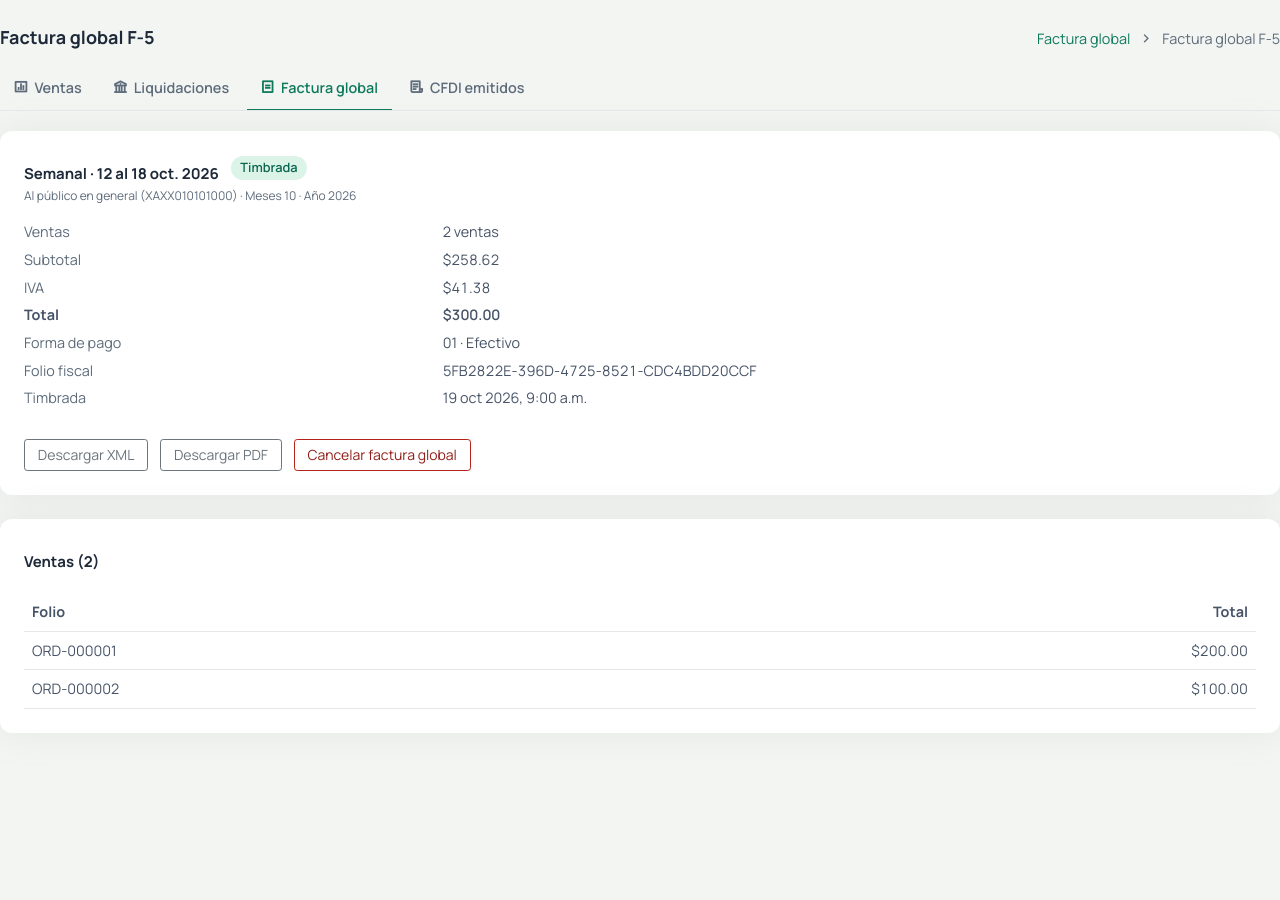
Test: GlobalInvoicePage › cancels with 04 by default, the motive of a customer asking for the invoice of a sale it holds
The width and height of the screenshot is (1280, 900).
Click the button "Cancelar factura global": (382, 455) top-left (294, 439), bottom-right (471, 471)
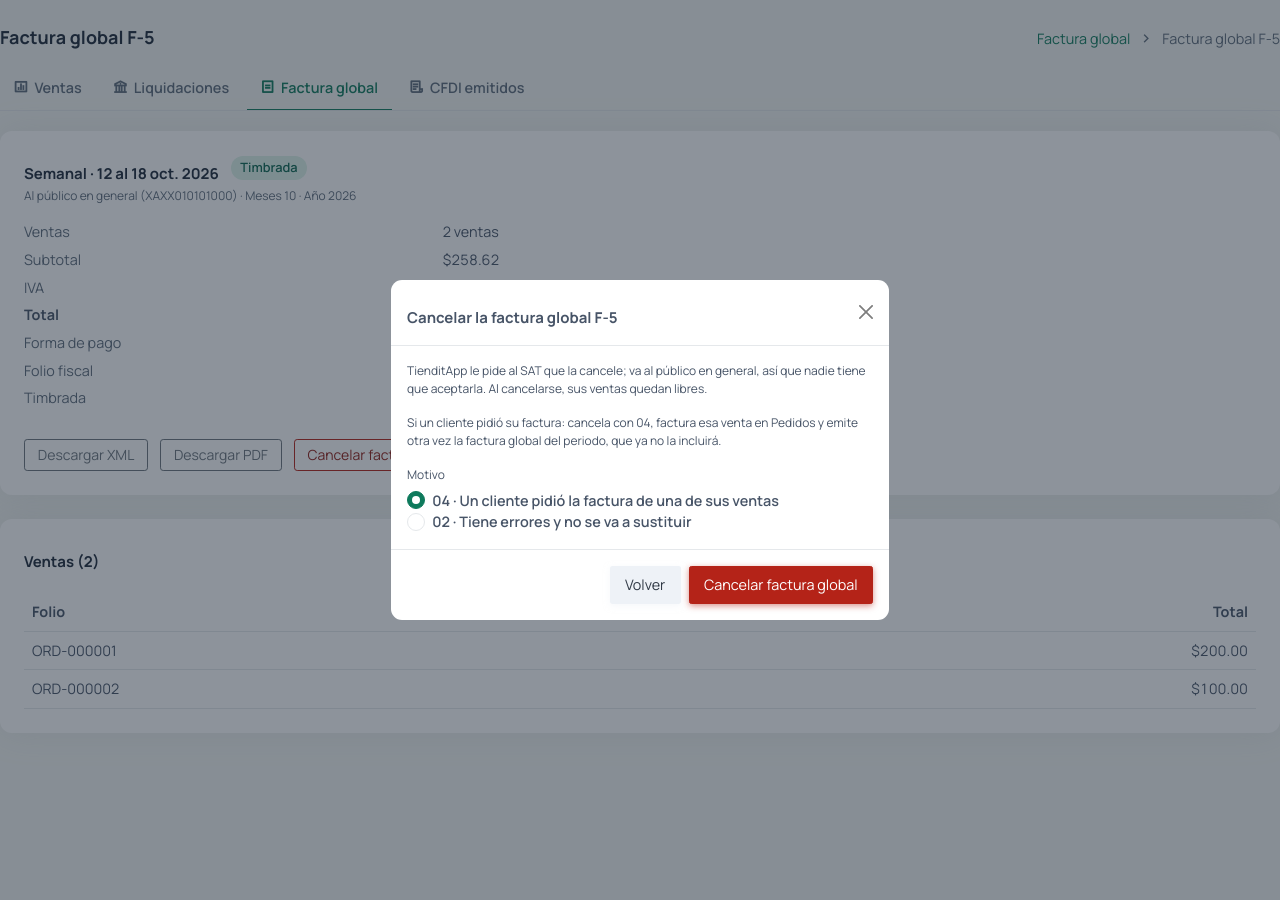
Result: the radio button labelled "04 · Un cliente pidió la factura de una de sus ventas" is checked at top-left (407, 491), bottom-right (425, 509)
Click the button "Cancelar factura global": (781, 585) top-left (689, 566), bottom-right (873, 604)
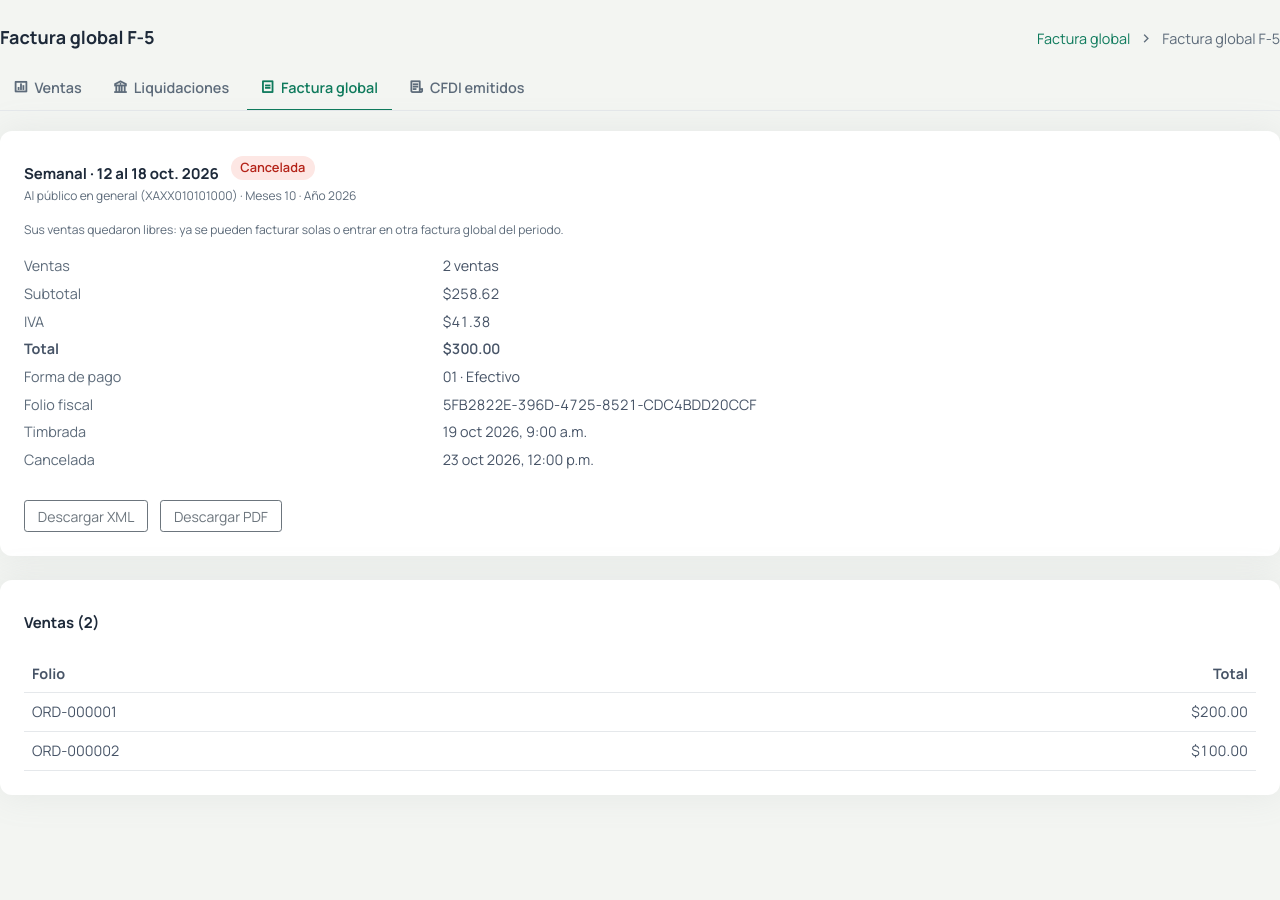
Result: the text "Cancelada" next to "Semanal · 12 al 18 oct. 2026" is shown at top-left (240, 158), bottom-right (305, 176)
Result: the button "Cancelar factura global" is gone
